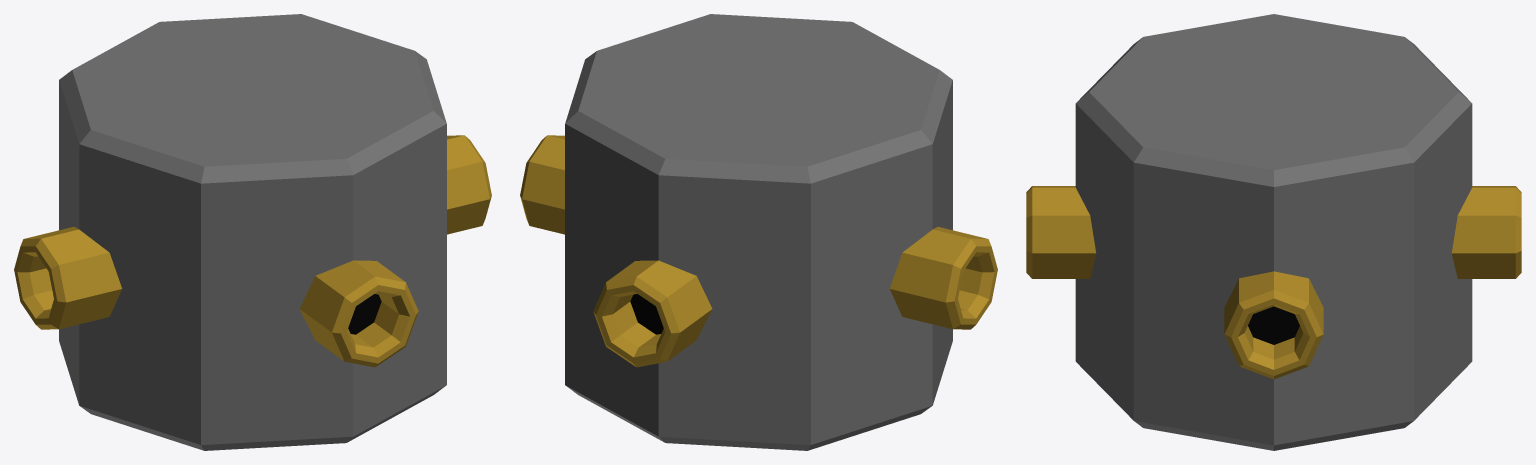
The model's file is Flame Thrower.glb.
3 views of the same model, side by side, from view 1: azimuth 30°, elevation 25°; view 2: azimuth 150°, elevation 25°; view 3: azimuth 270°, elevation 25° (orthographic).
Parts seen in each view (by area): view 1: Cylinder; view 2: Cylinder; view 3: Cylinder.
Boxes of the visible parts, x1,y1,x2,y2 form: Cylinder: (14,14,491,450); Cylinder: (520,14,997,450); Cylinder: (1026,14,1521,450).
Size of the model in its own units: 1 by 0.625 by 1.
